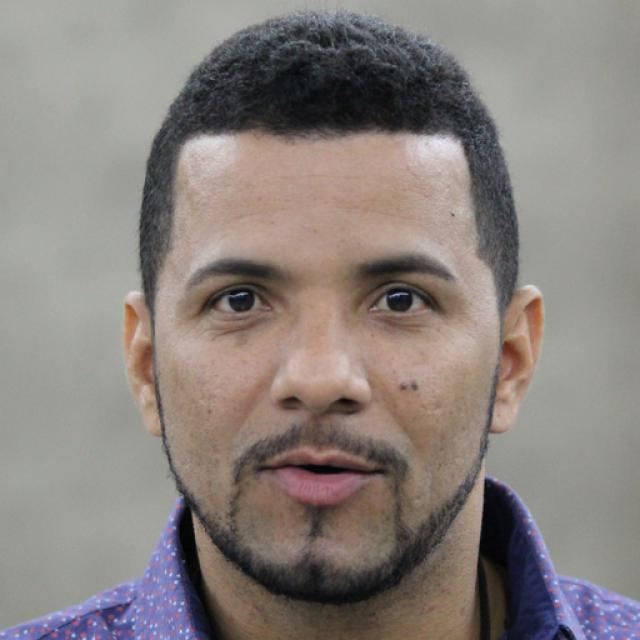neutral: (158, 116, 497, 599)
